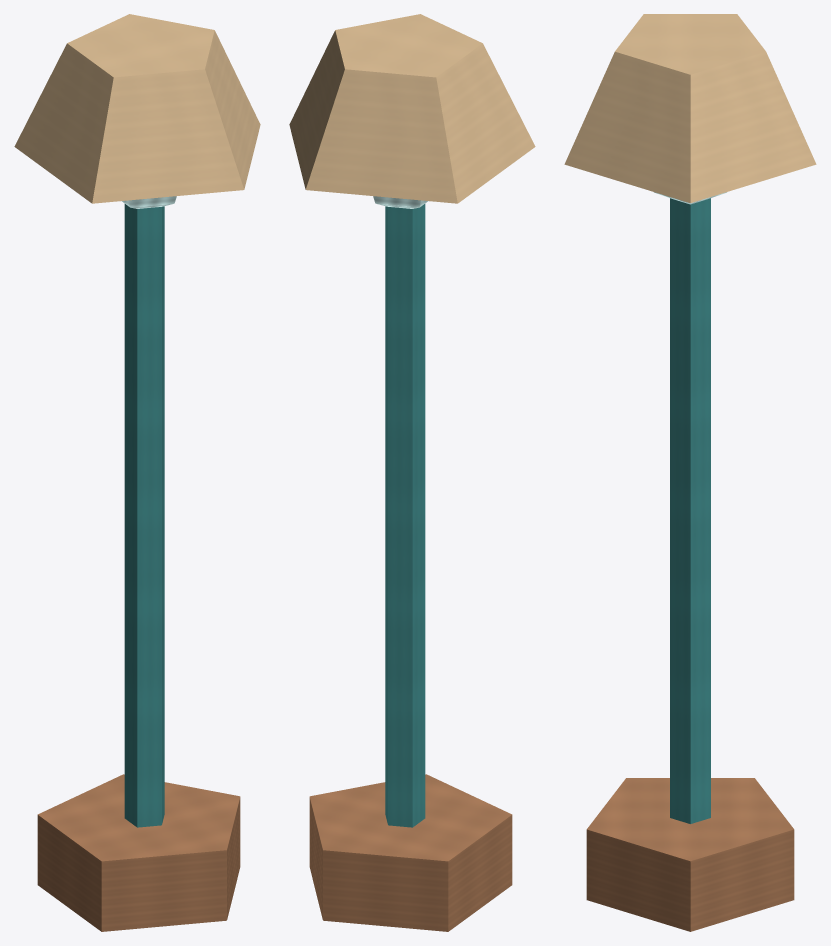
The model's file is atlas100-desertdeco-util01.lod1.glb.
The picture shows the model from 3 angles, left to right: view 1: azimuth 30°, elevation 25°; view 2: azimuth 150°, elevation 25°; view 3: azimuth 270°, elevation 25°; orthographic projection.
Parts seen in each view (by area): view 1: atlas100-desertdeco-util01:part-002, atlas100-desertdeco-util01:part-001, atlas100-desertdeco-util01:part-000; view 2: atlas100-desertdeco-util01:part-002, atlas100-desertdeco-util01:part-001, atlas100-desertdeco-util01:part-000; view 3: atlas100-desertdeco-util01:part-002, atlas100-desertdeco-util01:part-001, atlas100-desertdeco-util01:part-000.
Boxes of the visible parts, box(x1,y1,x2,y2) form: atlas100-desertdeco-util01:part-002: box(14, 14, 260, 203); atlas100-desertdeco-util01:part-001: box(124, 204, 164, 827); atlas100-desertdeco-util01:part-000: box(37, 774, 240, 931); atlas100-desertdeco-util01:part-002: box(289, 14, 535, 203); atlas100-desertdeco-util01:part-001: box(385, 204, 425, 827); atlas100-desertdeco-util01:part-000: box(309, 774, 512, 931); atlas100-desertdeco-util01:part-002: box(564, 14, 816, 202); atlas100-desertdeco-util01:part-001: box(670, 198, 710, 823); atlas100-desertdeco-util01:part-000: box(586, 778, 794, 931).
Bounding box in the file's own units: 0.6292 × 2.44 × 0.6616.
Materials: 4 (4 with a texture image).
